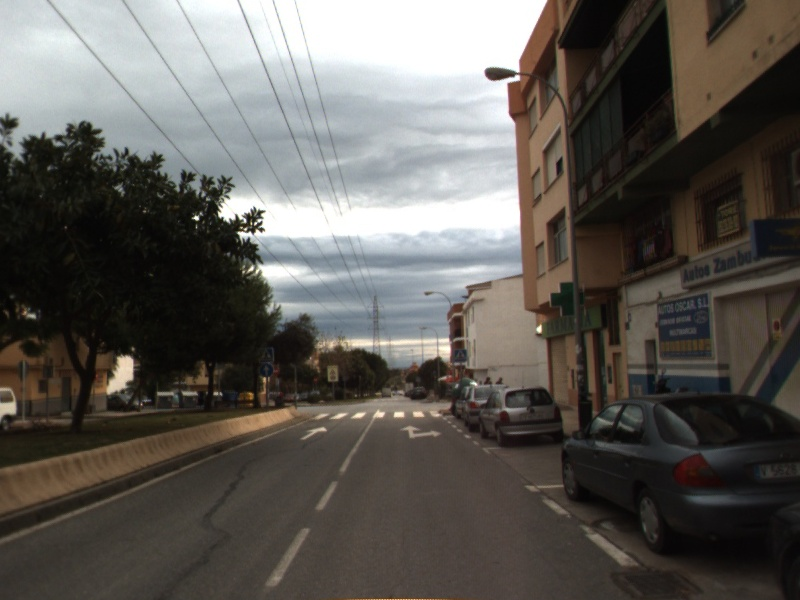STRAIGHT: (298, 425, 329, 442)
STRAIGHT_RIGHT: (398, 424, 444, 440)
